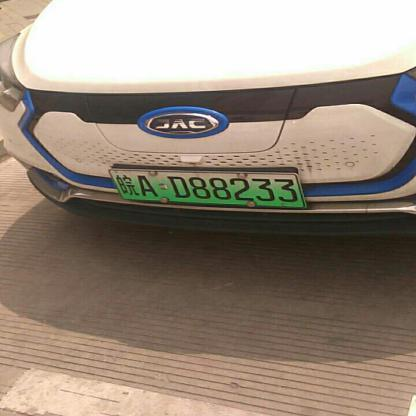lp: (109, 168, 306, 209)
